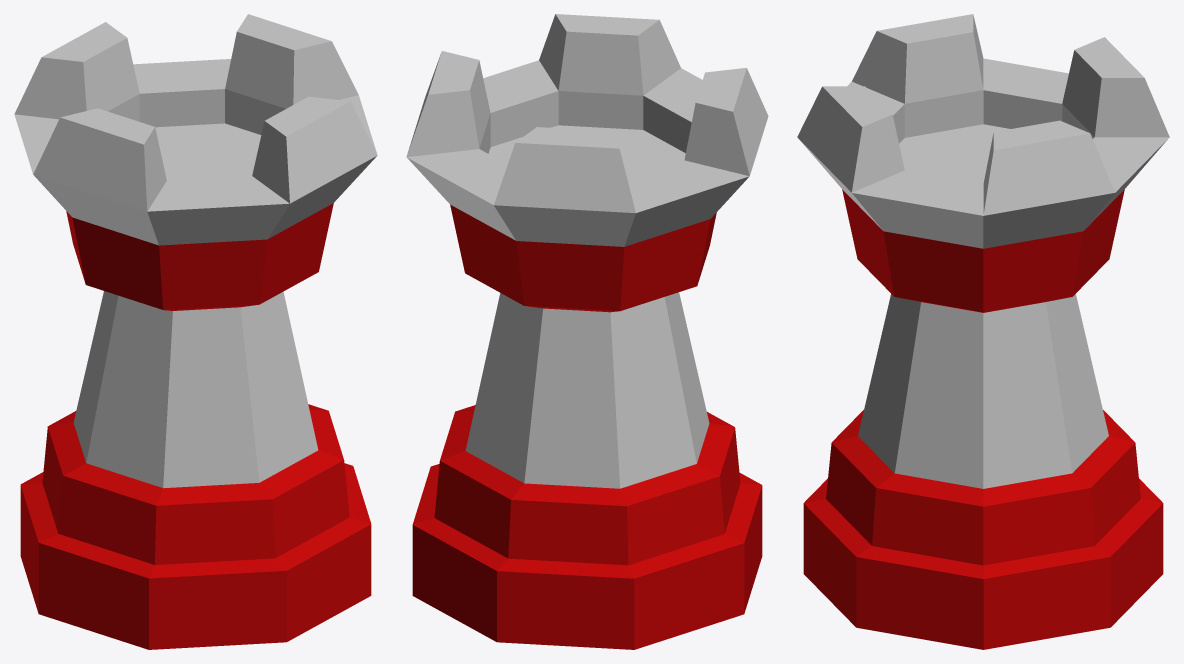
Rendered from TowerV2.obj.
3 renders of one model, left to right at view 1: azimuth 30°, elevation 25°; view 2: azimuth 150°, elevation 25°; view 3: azimuth 270°, elevation 25°, orthographic.
Visible parts, largest first — view 1: Tower; view 2: Tower; view 3: Tower.
Part boxes in pixels (<box>): Tower: <box>14,14,377,649</box>; Tower: <box>406,14,768,649</box>; Tower: <box>797,14,1169,649</box>.
Size of the model in its own units: 0.8456 by 1.23 by 0.8456.
